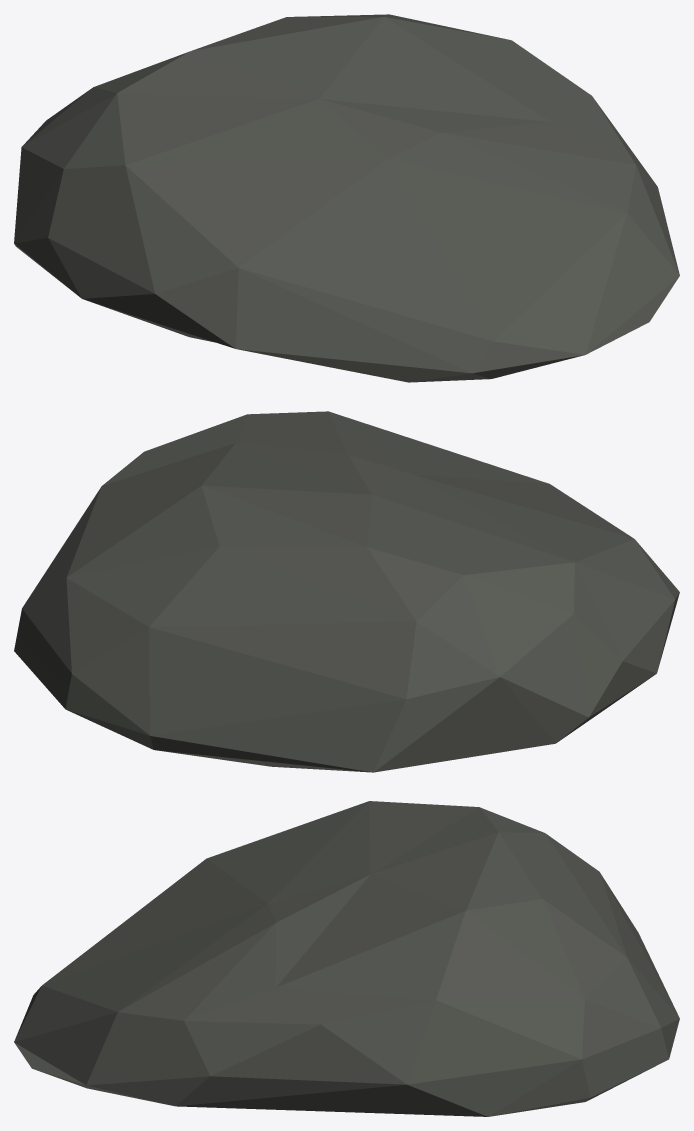
File: S_Rock_06.fbx
3 renders of one model, top to bottom at view 1: azimuth 30°, elevation 25°; view 2: azimuth 150°, elevation 25°; view 3: azimuth 270°, elevation 25°, orthographic. The views are drawn at different scales.
Parts seen in each view (by area): view 1: S_Rock_06; view 2: S_Rock_06; view 3: S_Rock_06.
Part boxes in pixels (box(x1,y1,x2,y2)): S_Rock_06: box(14, 14, 679, 382); S_Rock_06: box(14, 411, 679, 772); S_Rock_06: box(14, 801, 679, 1116).
Bounding box in the file's own units: 137 × 46.52 × 157.
Materials: 1 (1 with a texture image).
